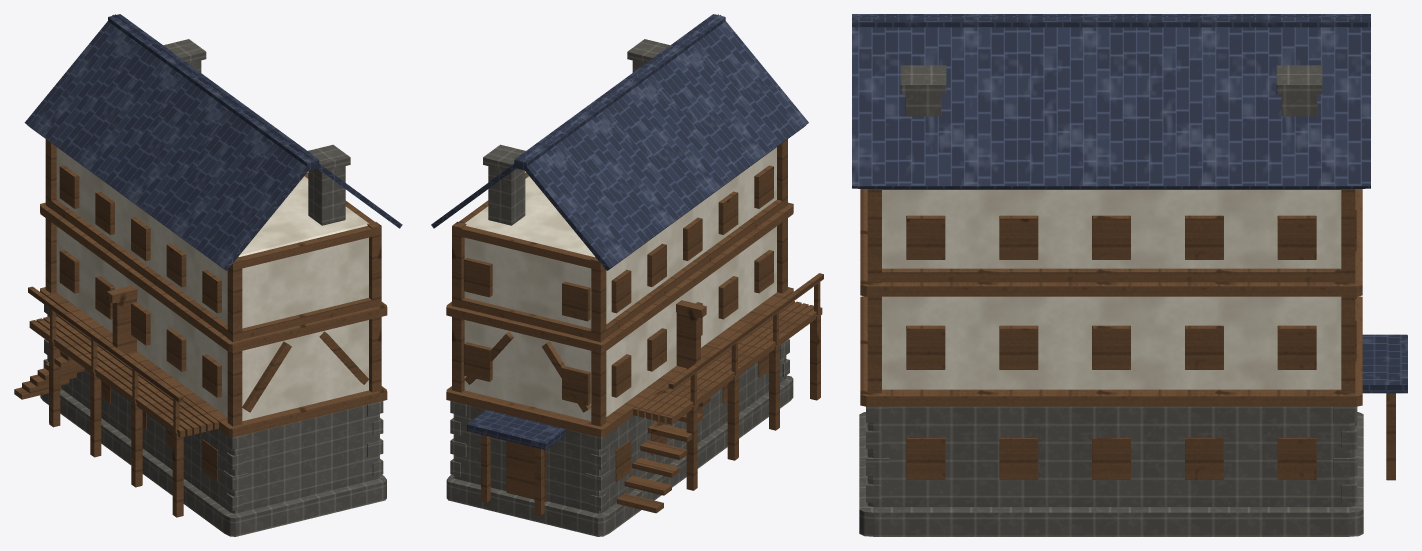
Rendered from shelter.gltf.
3 views of the same model, side by side, from view 1: azimuth 30°, elevation 25°; view 2: azimuth 150°, elevation 25°; view 3: azimuth 270°, elevation 25° (orthographic). The views are drawn at different scales.
Visible parts, largest first — view 1: Shelter; view 2: Shelter; view 3: Shelter.
Part boxes in pixels (x1,y1,x2,y2): Shelter: [14, 14, 402, 536]; Shelter: [431, 14, 823, 536]; Shelter: [852, 14, 1407, 536].
Size of the model in its own units: 2.64 by 4.36 by 4.67.
8 materials, 7 textured.
